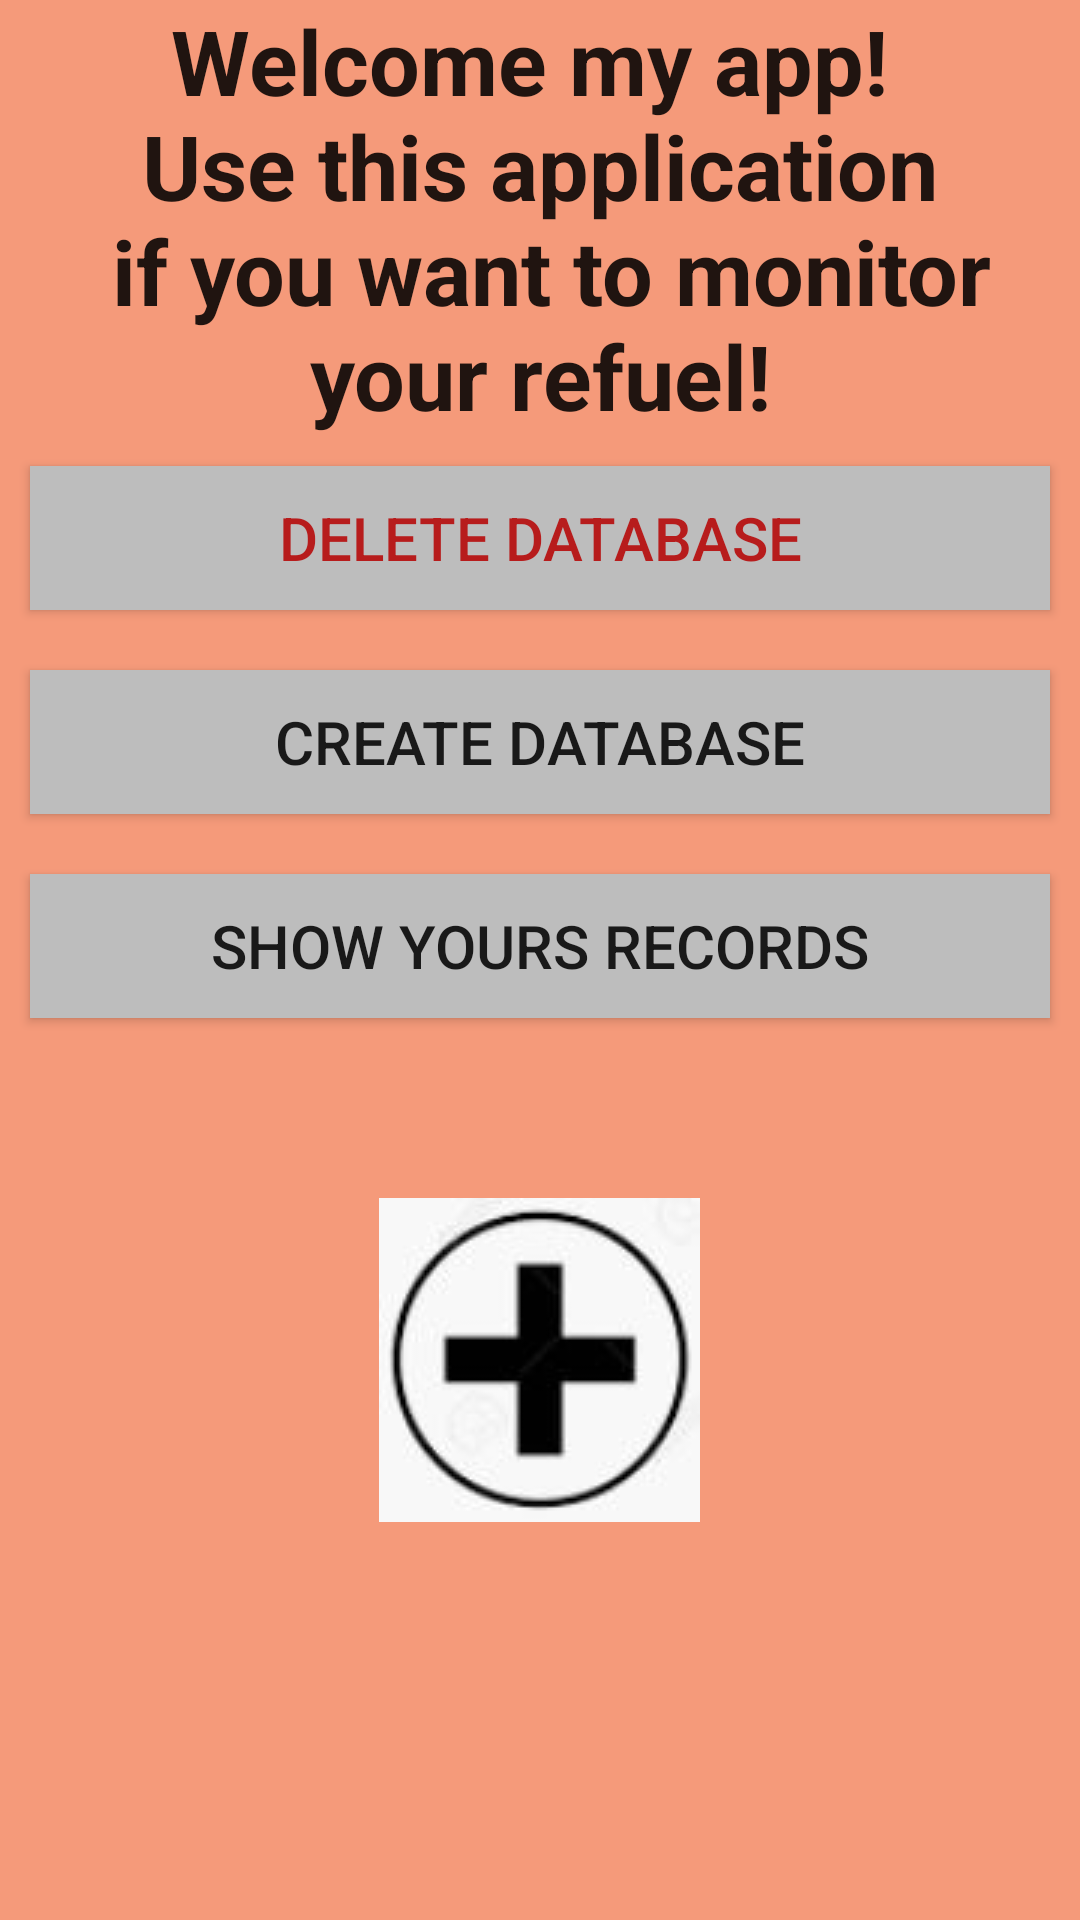

Screen size 1080px x 1920px. Icon name, then its center in pixels as [x,y]:
miniplus: [539,1360]
